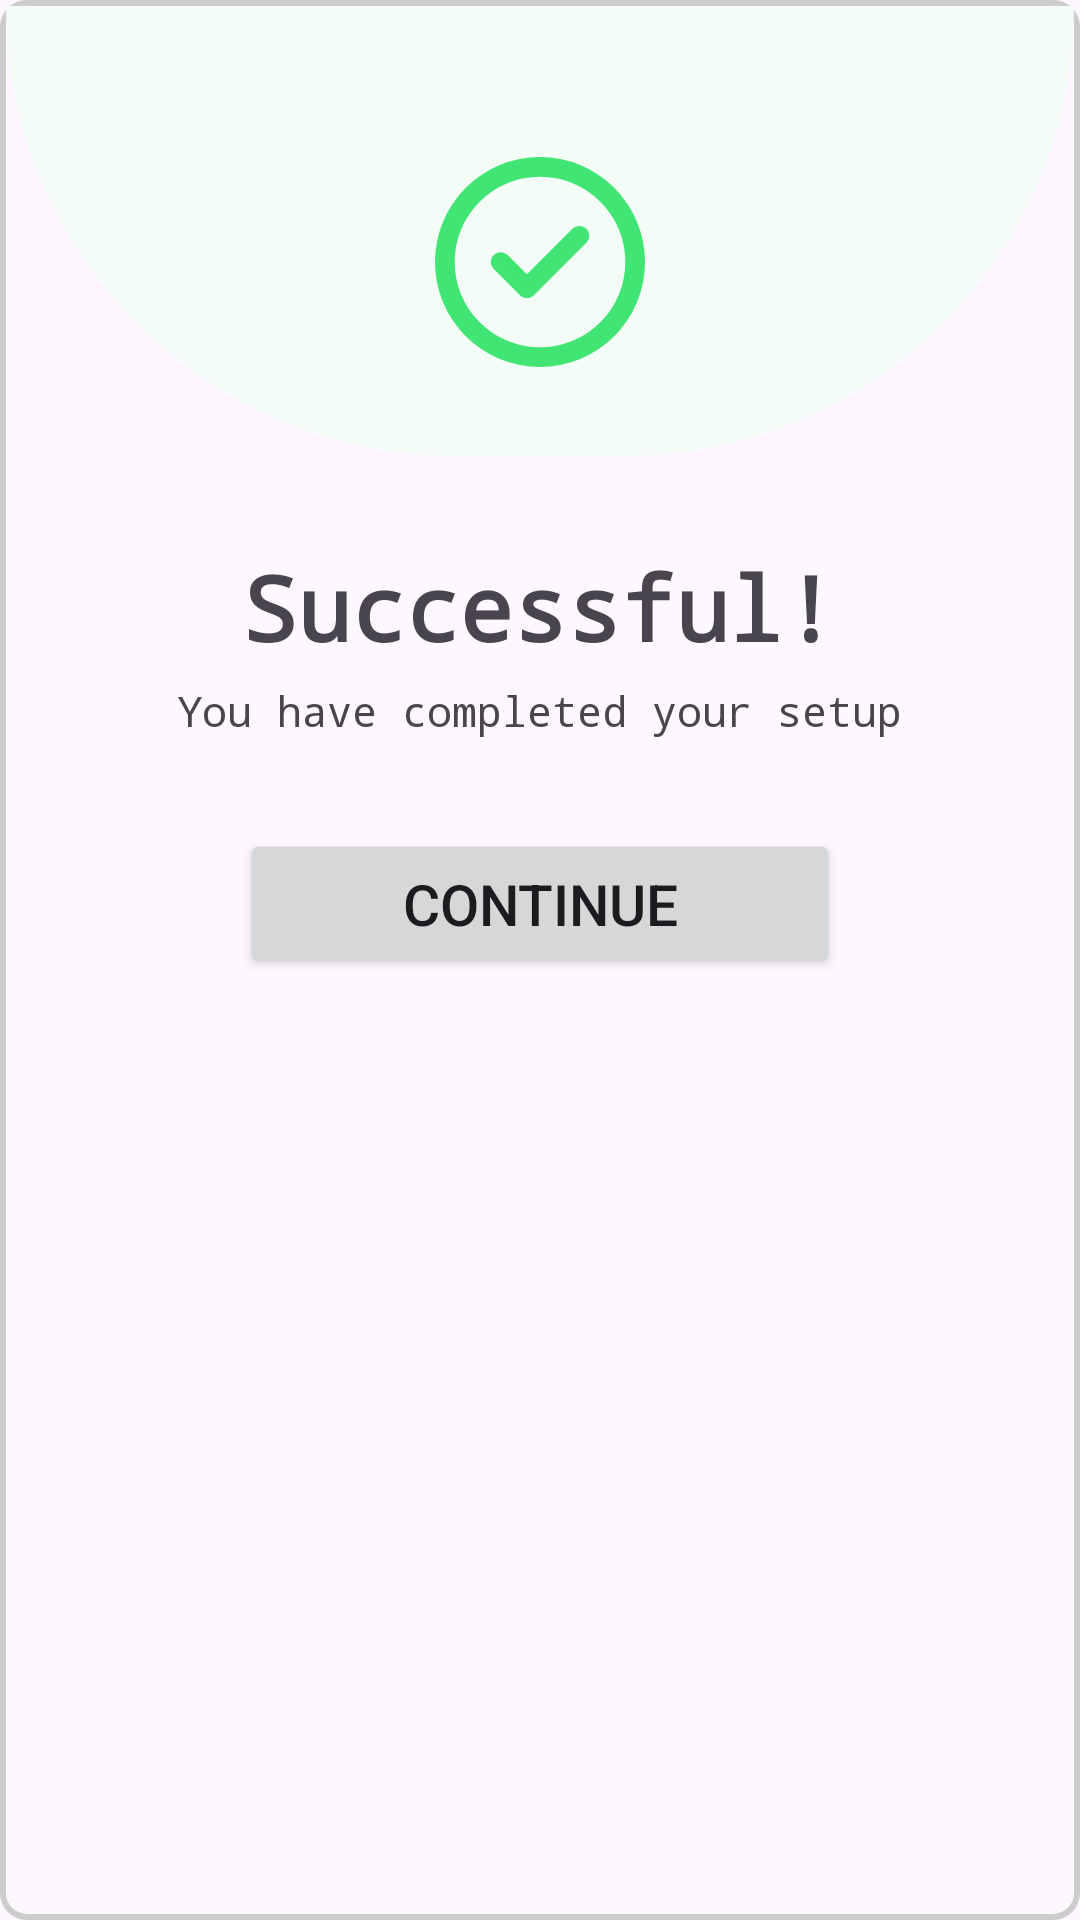

Screen size 1080 x 1920. Icon name, then its center in pixels as (x=x, y=y):
circle check: (x=540, y=262)
